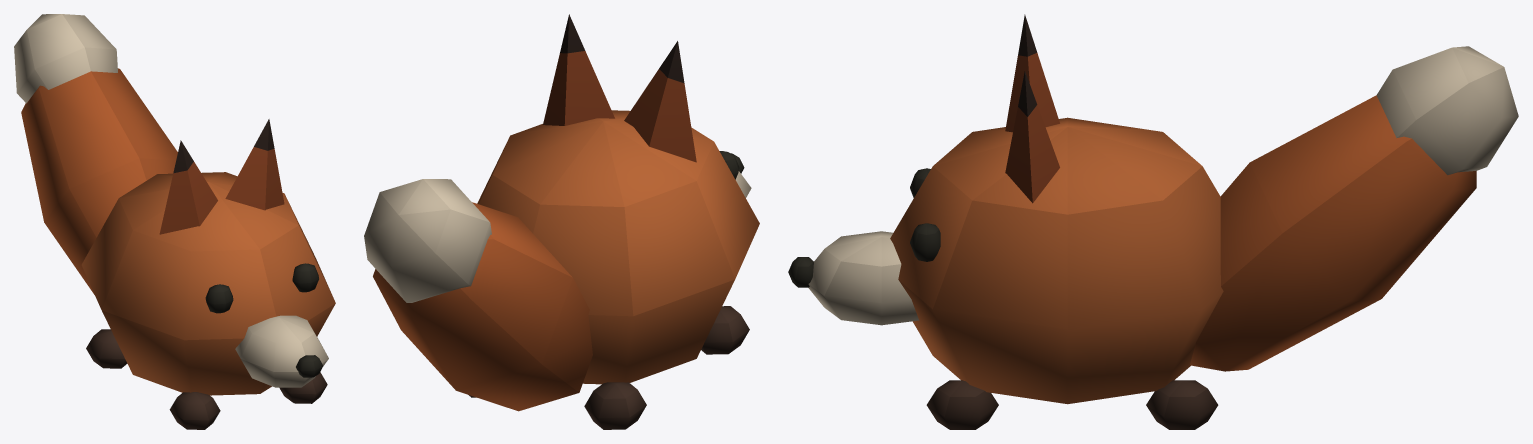
Rendered from Fox.glb.
3 views of the same model, side by side, from view 1: azimuth 30°, elevation 25°; view 2: azimuth 150°, elevation 25°; view 3: azimuth 270°, elevation 25° (orthographic). The views are drawn at different scales.
Visible parts, largest first — view 1: Hunt_Fox; view 2: Hunt_Fox; view 3: Hunt_Fox.
Boxes of the visible parts, box(x1,y1,x2,y2) form: Hunt_Fox: box(14, 14, 335, 429); Hunt_Fox: box(364, 14, 759, 429); Hunt_Fox: box(788, 14, 1518, 429).
Bounding box in the file's own units: 0.34 × 0.4079 × 0.7658.
